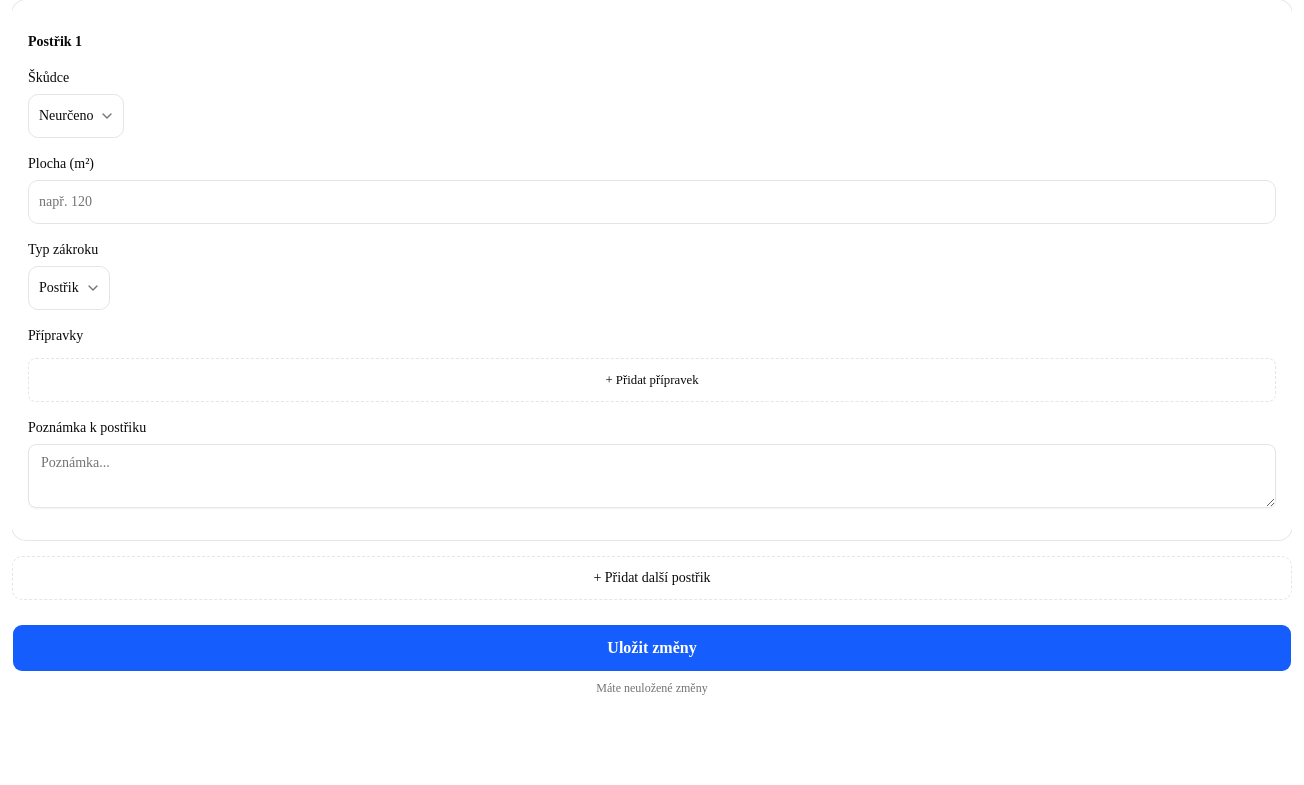
Test: PostrikFormView › přidání dalšího postřiku
Expected: the heading "Postřik 1" is shown, [28, 32, 82, 52]
Click the button "+ Přidat další postřik" at (652, 578), box [12, 556, 1292, 600]
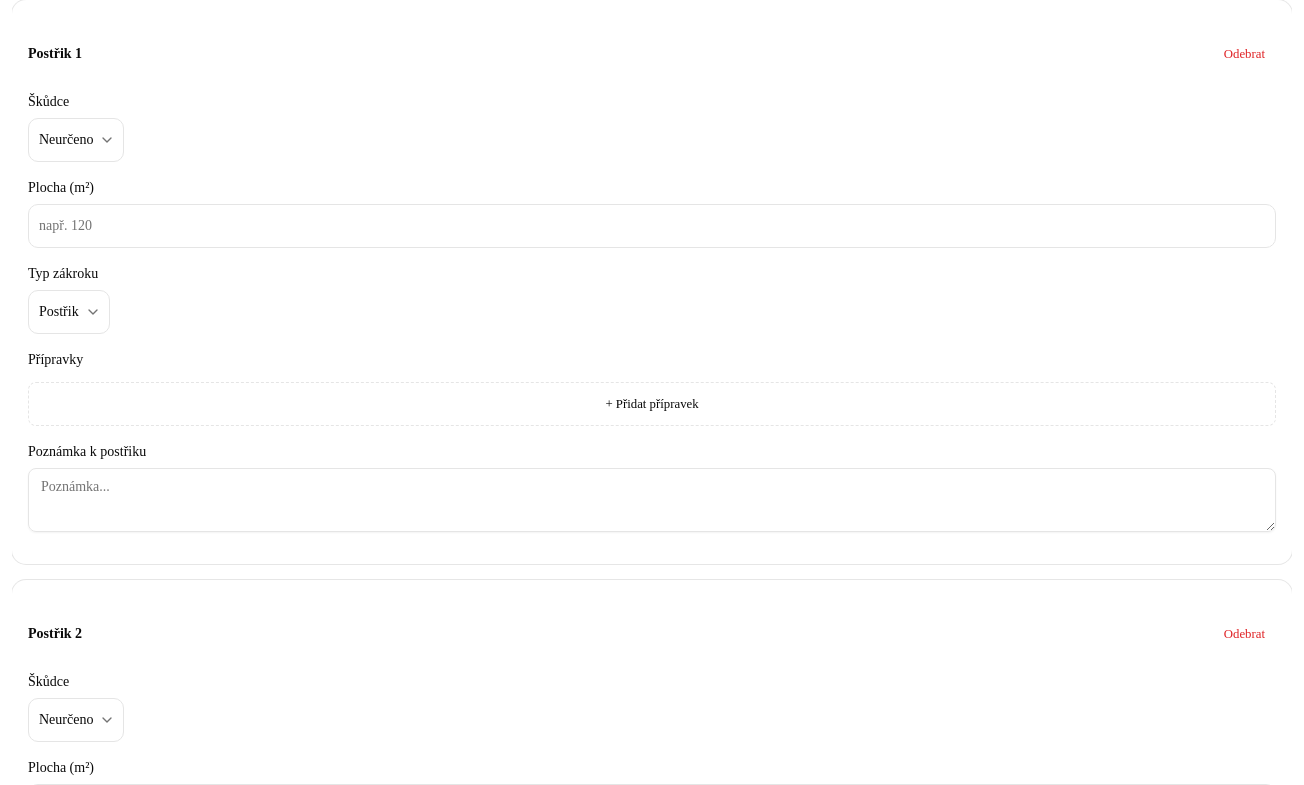
Now the heading "Postřik 2" is shown, box [28, 624, 82, 644]
